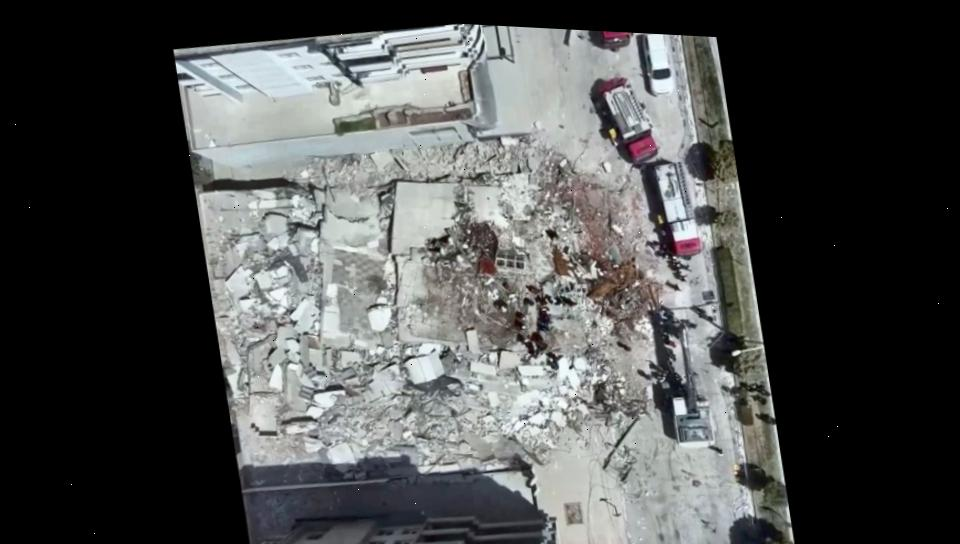kapali: (488, 34, 753, 543)
